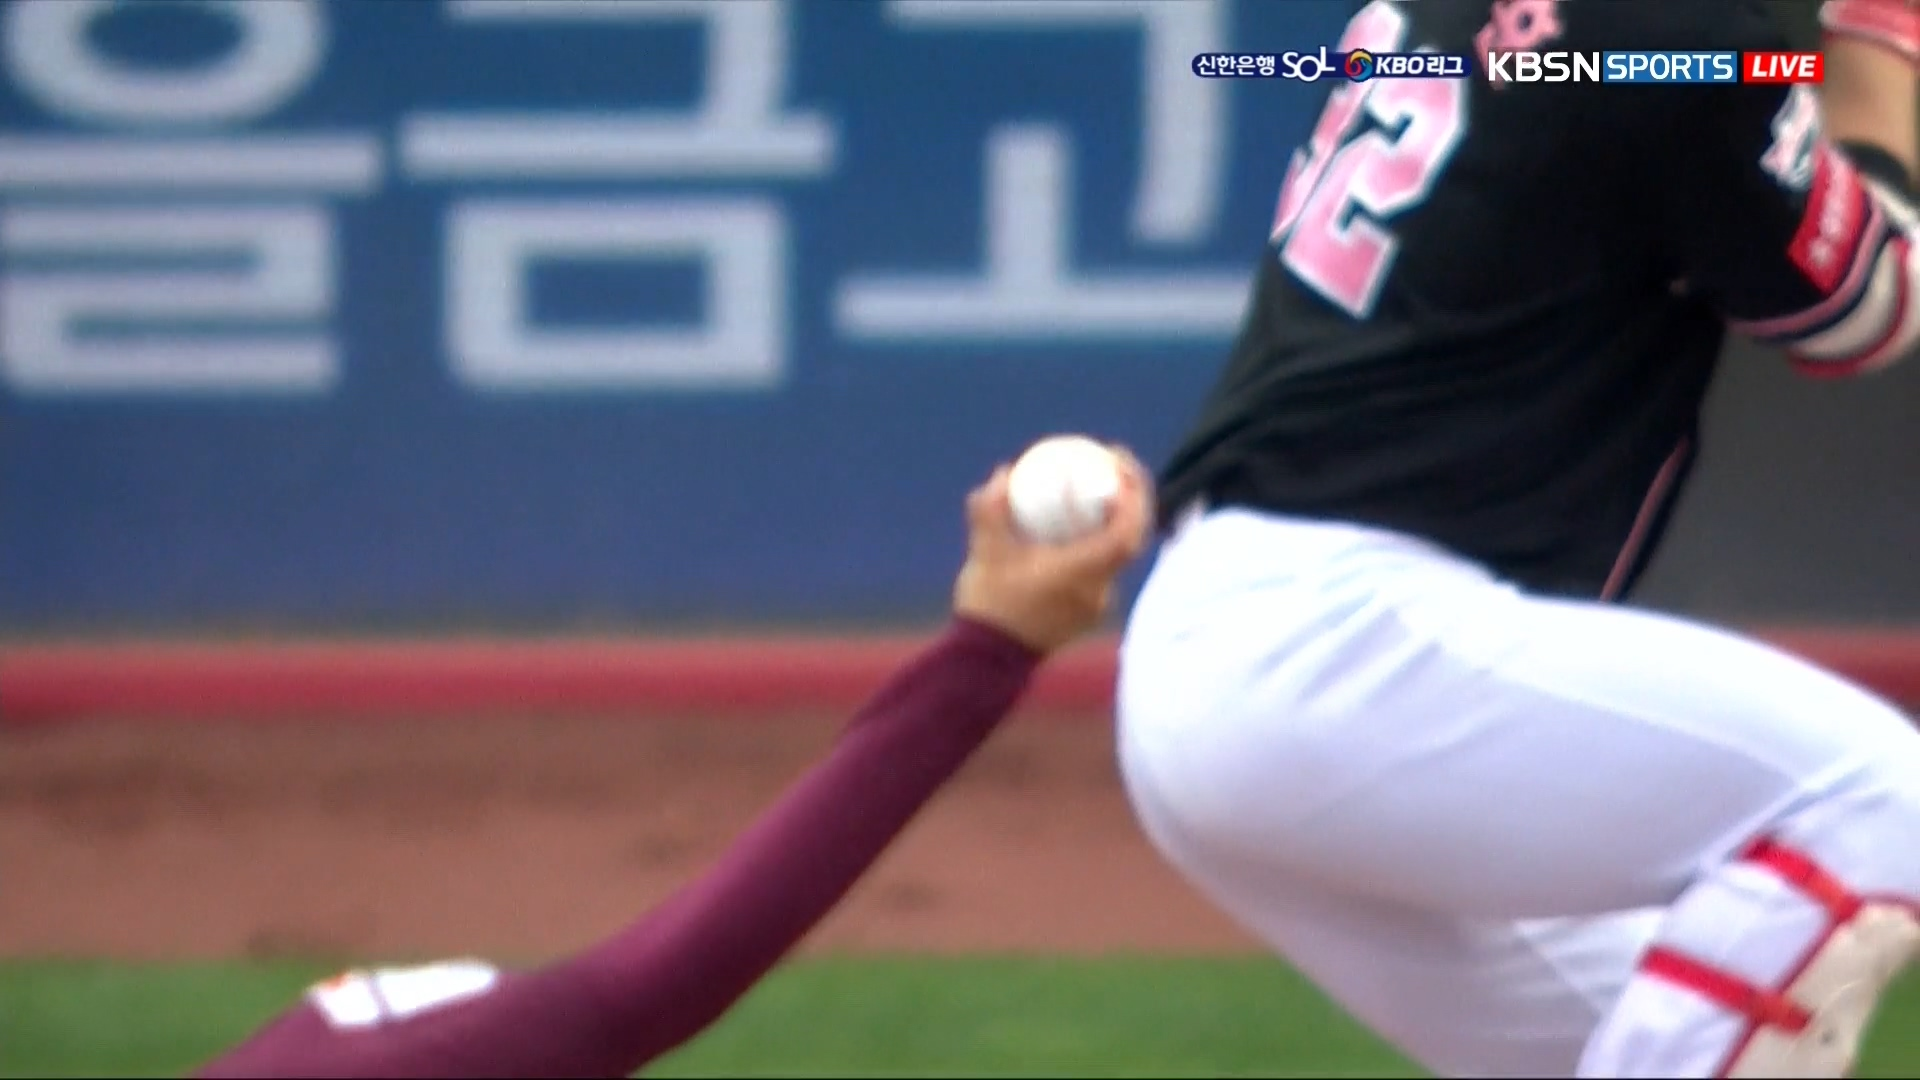zoomin_hand: (588, 423, 1159, 1030)
